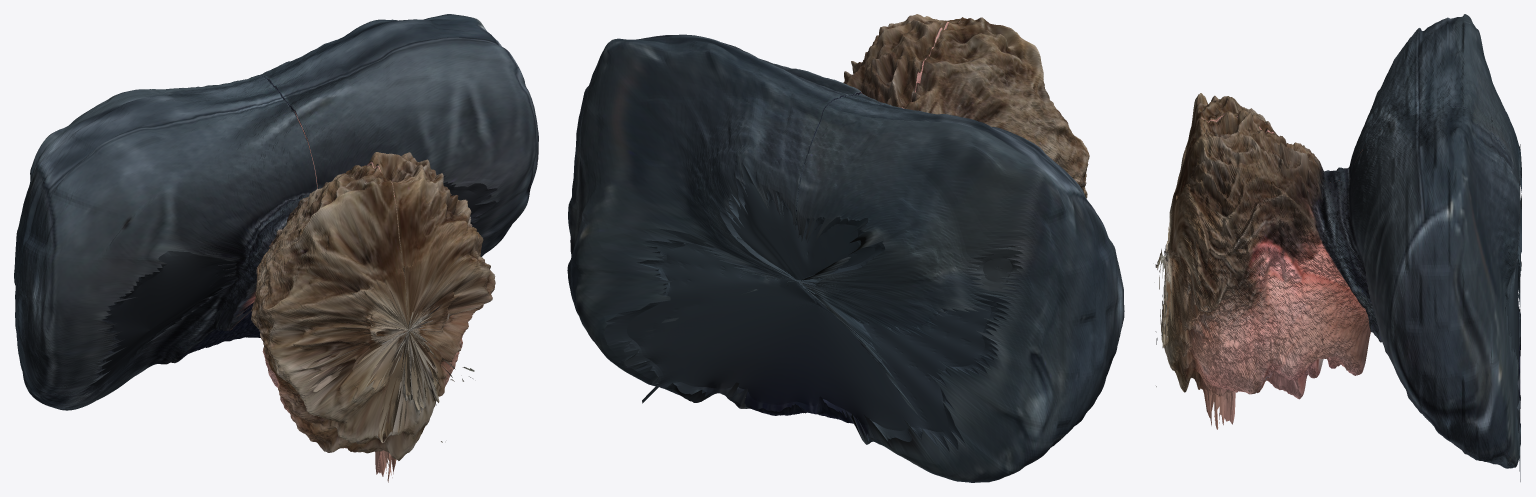
Rendered from mesh_filled.glb.
3 views of the same model, side by side, from view 1: azimuth 30°, elevation 25°; view 2: azimuth 150°, elevation 25°; view 3: azimuth 270°, elevation 25° (orthographic). The views are drawn at different scales.
Visible parts, largest first — view 1: ipn, fill; view 2: ipn, fill; view 3: ipn, fill.
Part boxes in pixels (x1,y1,x2,y2): ipn: [14, 14, 538, 482]; fill: [80, 175, 497, 474]; ipn: [567, 14, 1124, 482]; fill: [604, 162, 1022, 451]; ipn: [1155, 14, 1521, 481]; fill: [1162, 154, 1521, 449].
Bounding box in the file's own units: 1.97 × 1.29 × 1.23.
Materials: 2 (1 with a texture image).
